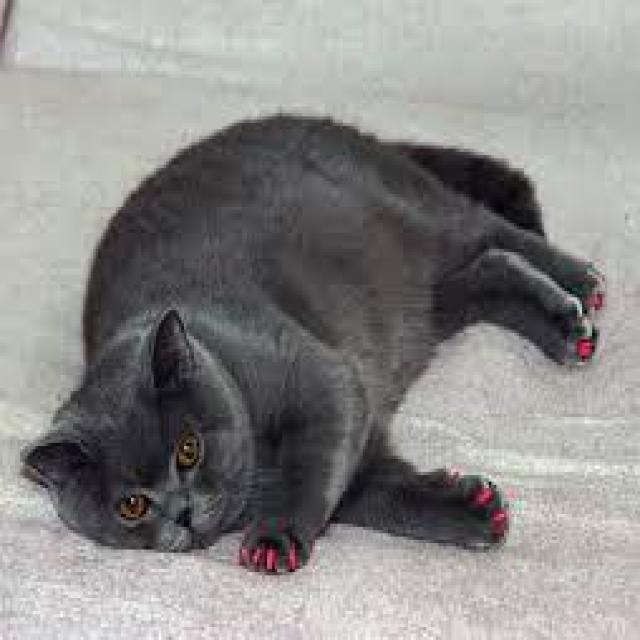Cat: (16, 109, 609, 586)
